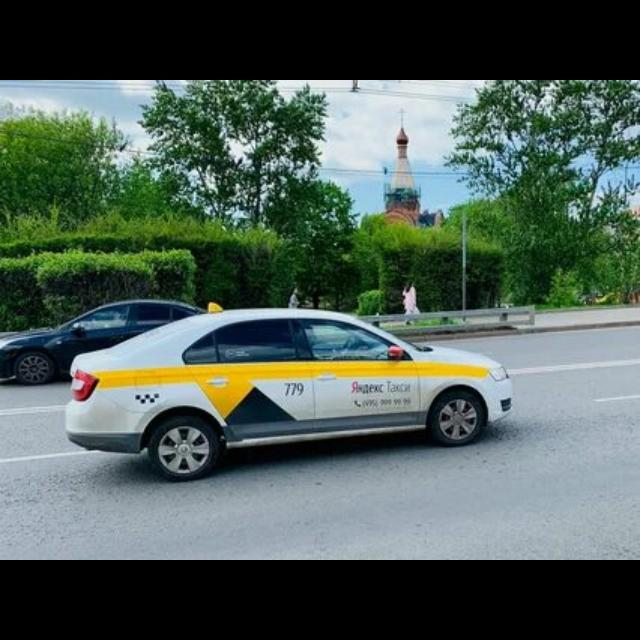taxi: (65, 304, 514, 482)
